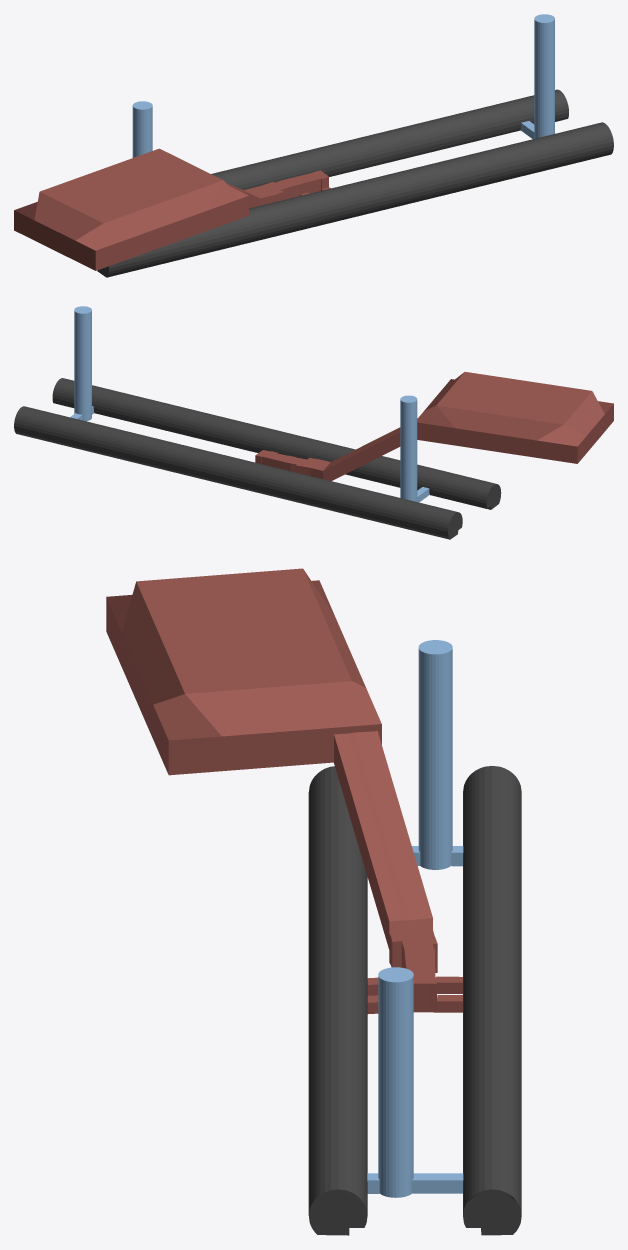
3 views of the same model, one above another, from view 1: azimuth 30°, elevation 25°; view 2: azimuth 150°, elevation 25°; view 3: azimuth 270°, elevation 25° (orthographic). The views are drawn at different scales.
Visible parts, largest first — view 1: TicketHall, PLT1, PLT2, 14, Concourse, 25; view 2: PLT2, TicketHall, PLT1, 14, 25, ESC, Concourse; view 3: TicketHall, PLT2, PLT1, ESC, 14, 25, Concourse.
Boxes of the visible parts, box(x1,y1,x2,y2) form: TicketHall: box(14, 148, 248, 270); PLT1: box(97, 122, 613, 277); PLT2: box(211, 89, 568, 189); 14: box(520, 14, 554, 138); Concourse: box(244, 170, 328, 205); 25: box(132, 101, 152, 157); PLT2: box(14, 406, 462, 539); TicketHall: box(417, 372, 613, 463); PLT1: box(52, 378, 501, 509); 14: box(70, 306, 94, 421); 25: box(400, 395, 429, 502); ESC: box(323, 427, 400, 480); Concourse: box(255, 450, 330, 478); TicketHall: box(106, 568, 381, 775); PLT2: box(463, 766, 521, 1235); PLT1: box(308, 766, 367, 1235); ESC: box(334, 731, 432, 949); 14: box(367, 967, 463, 1197); 25: box(412, 640, 463, 869); Concourse: box(389, 918, 437, 1012).
Size of the model in its own units: 186 by 38.67 by 65.05.
